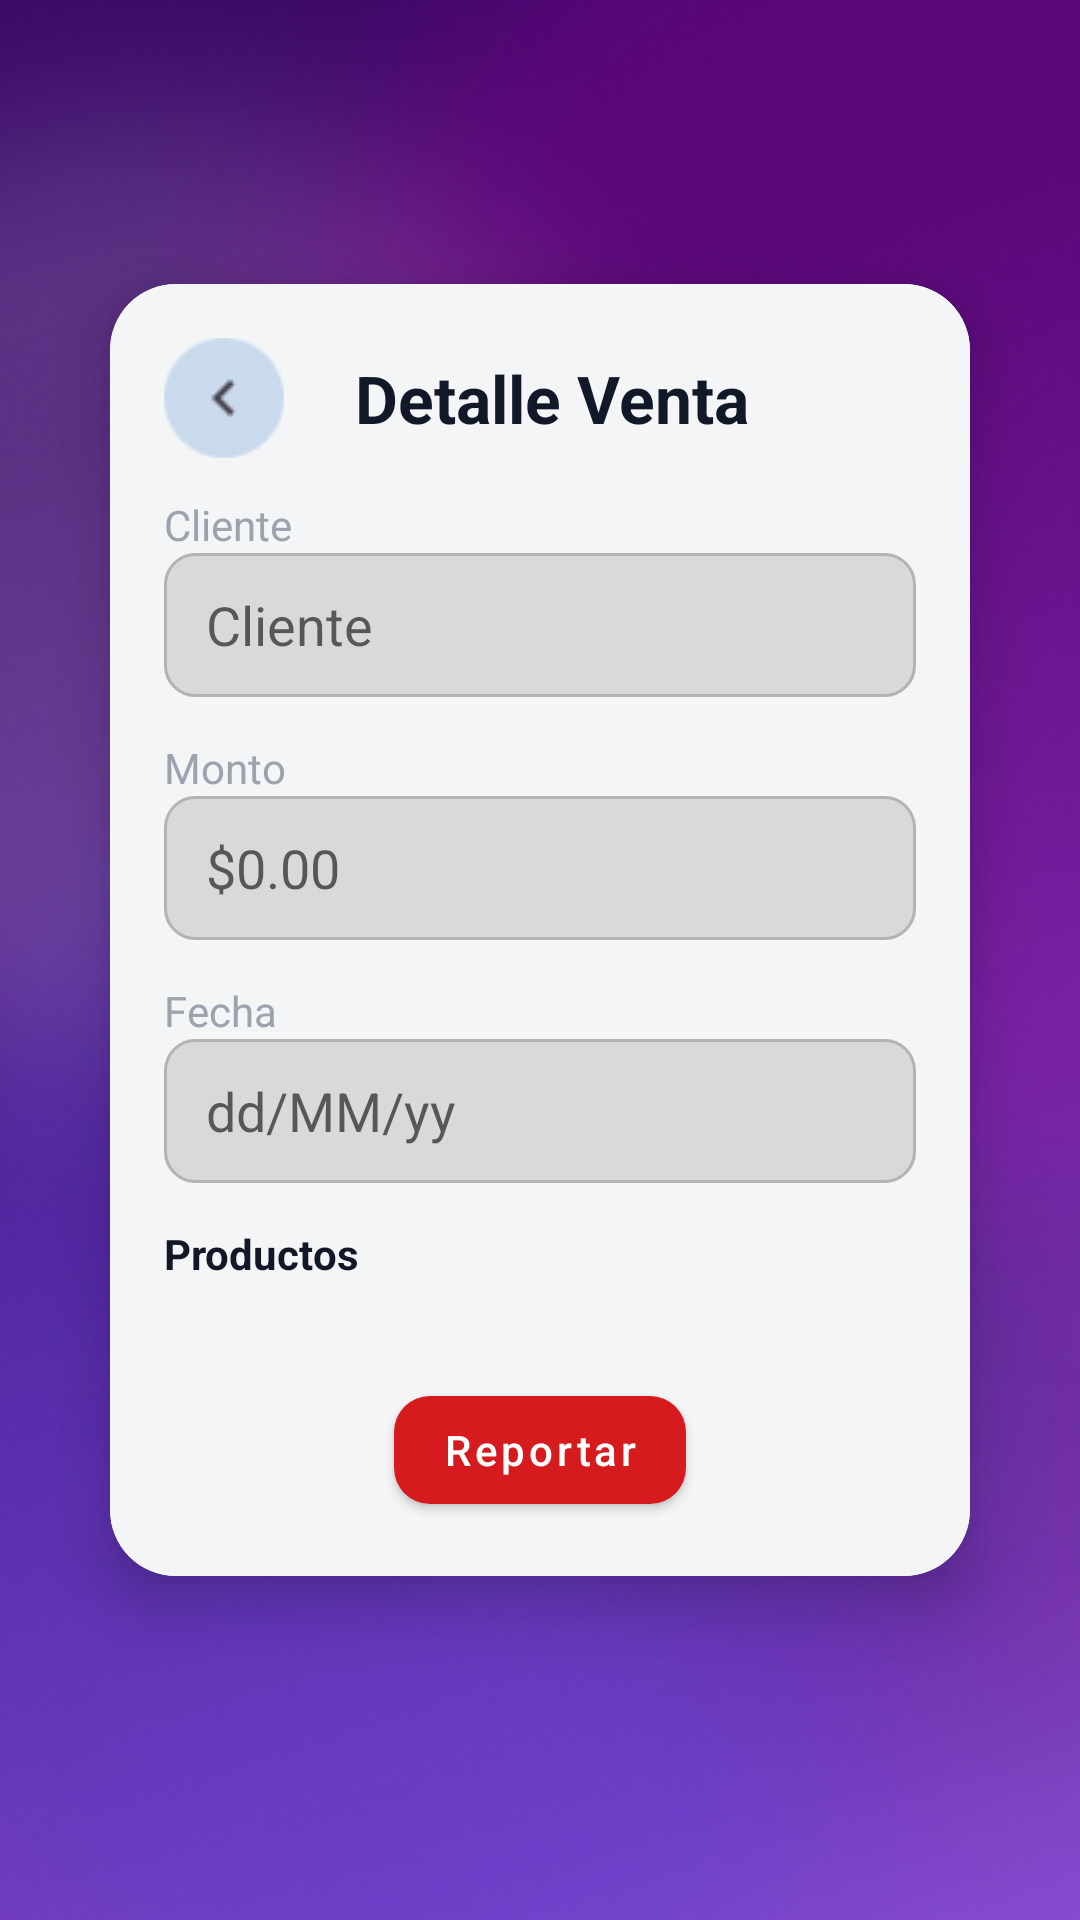

Screen size 1080px×1920px. Icon name, then its box in pixels as bbox=[x1, y1, x2, y2]:
Volver: bbox=[164, 338, 284, 458]
